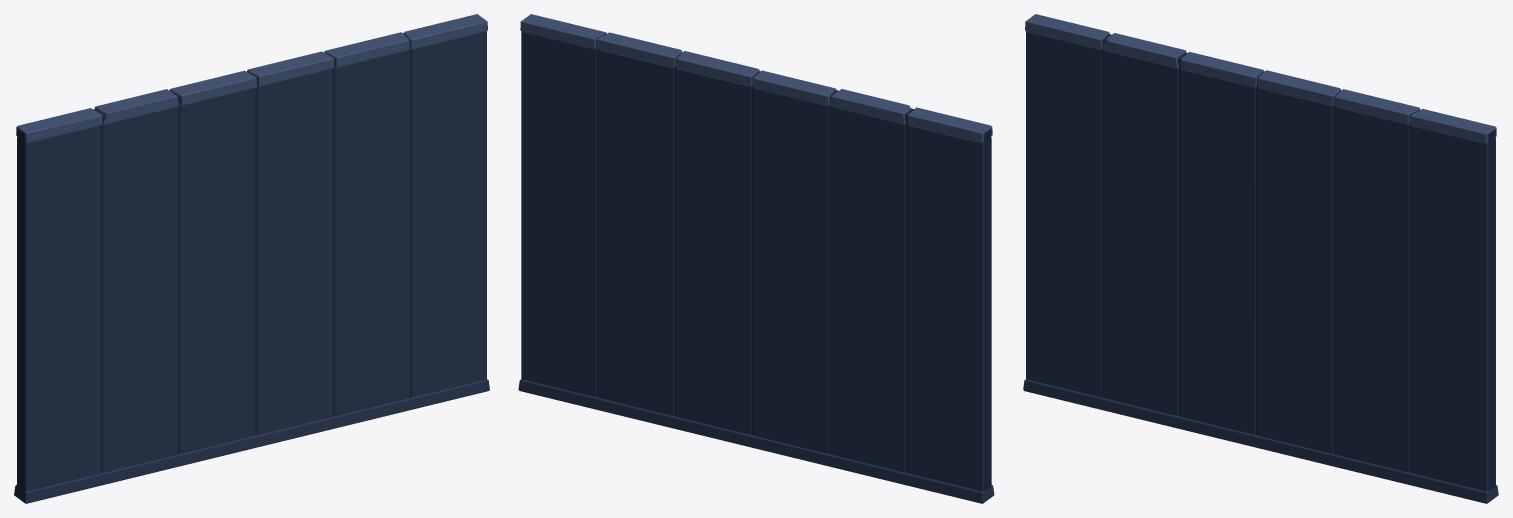
The model's file is wall_navy_1100_840_38.glb.
3 views of the same model, side by side, from view 1: azimuth 30°, elevation 25°; view 2: azimuth 150°, elevation 25°; view 3: azimuth 330°, elevation 25° (orthographic).
Visible parts, largest first — view 1: wall_navy_1100_840_38; view 2: wall_navy_1100_840_38; view 3: wall_navy_1100_840_38.
Part boxes in pixels (bbox=[...]): wall_navy_1100_840_38: bbox=[14, 14, 489, 503]; wall_navy_1100_840_38: bbox=[518, 14, 994, 503]; wall_navy_1100_840_38: bbox=[1023, 14, 1498, 503].
Bounding box in the file's own units: 11.04 × 8.41 × 0.4982.
